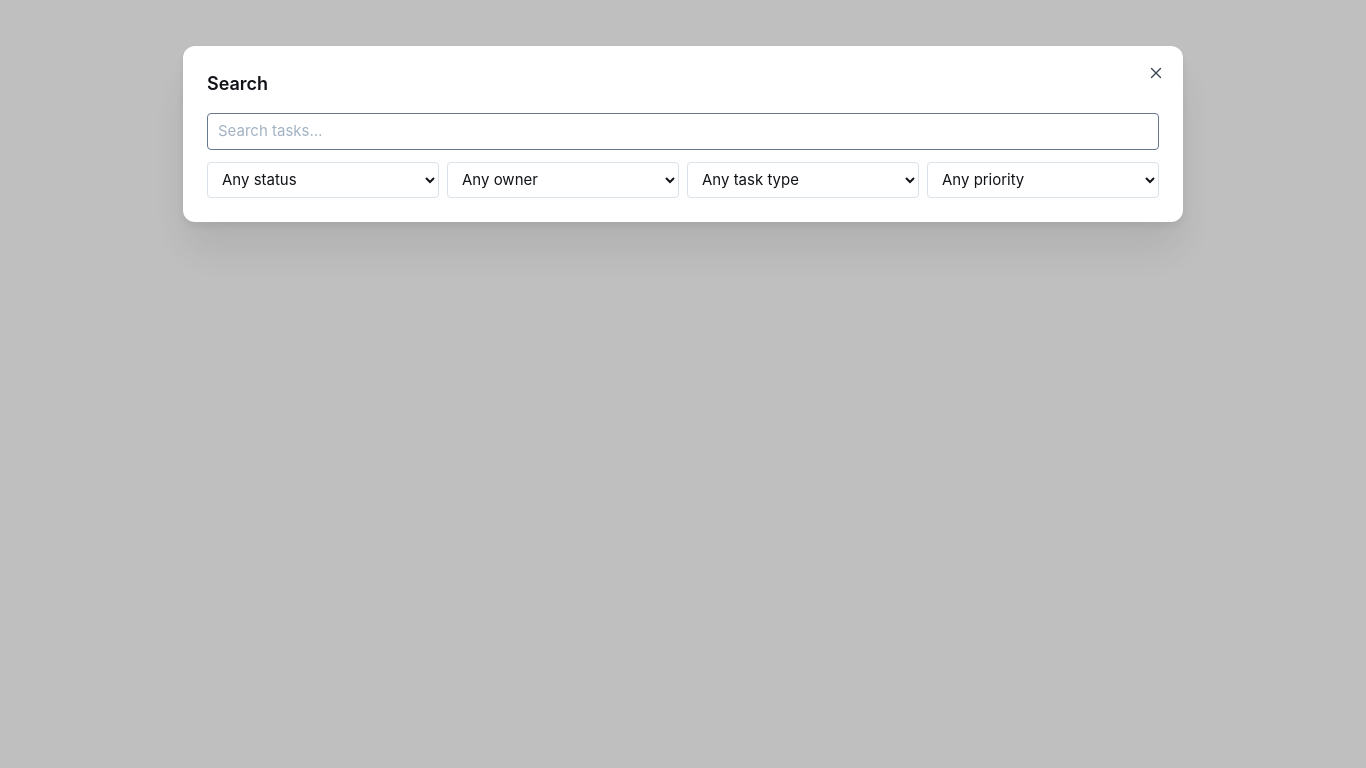
it: search dialog › sends the filters
This screenshot has width=1366, height=768.
Select "Not finished" in the dropdown named "Status" at (323, 180), box top-left (207, 162), bottom-right (439, 198)
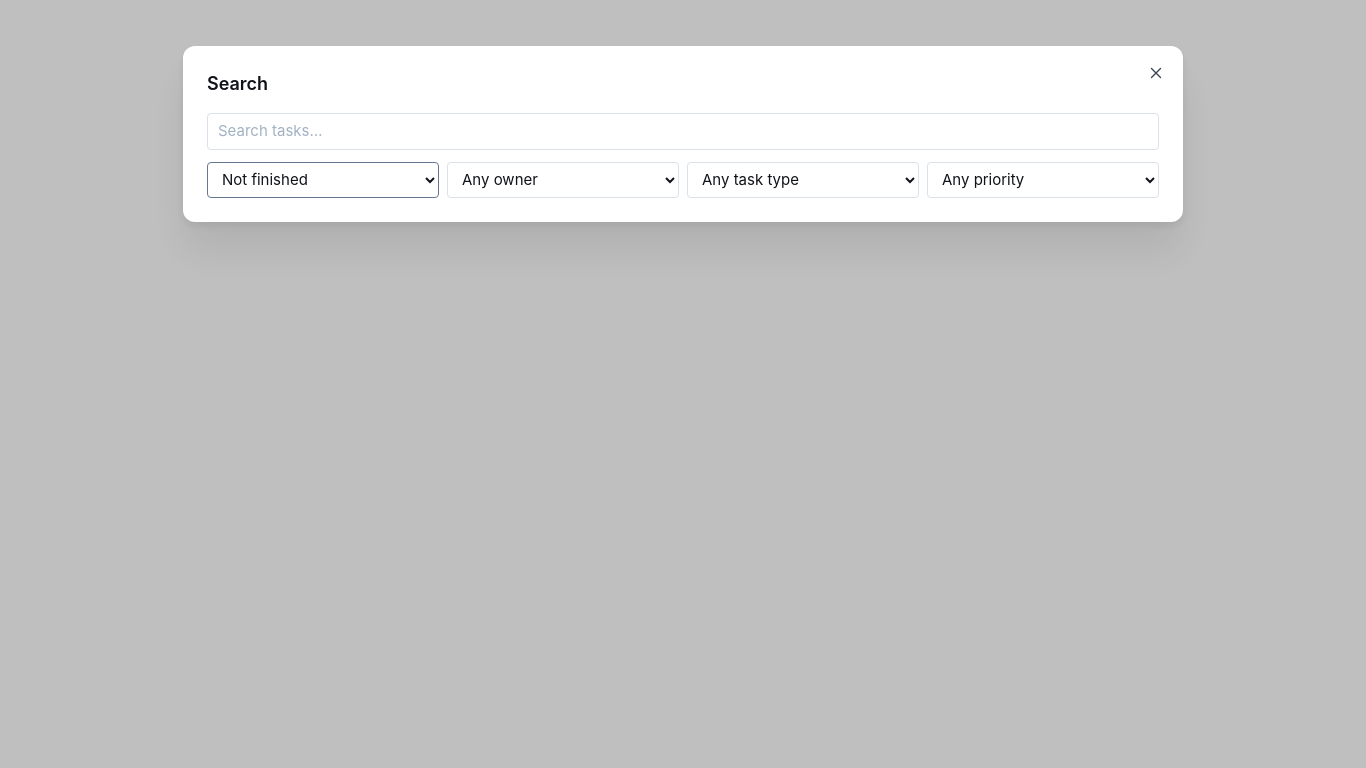
Select "Bob" in the dropdown named "Owner" at (563, 180), box top-left (447, 162), bottom-right (679, 198)
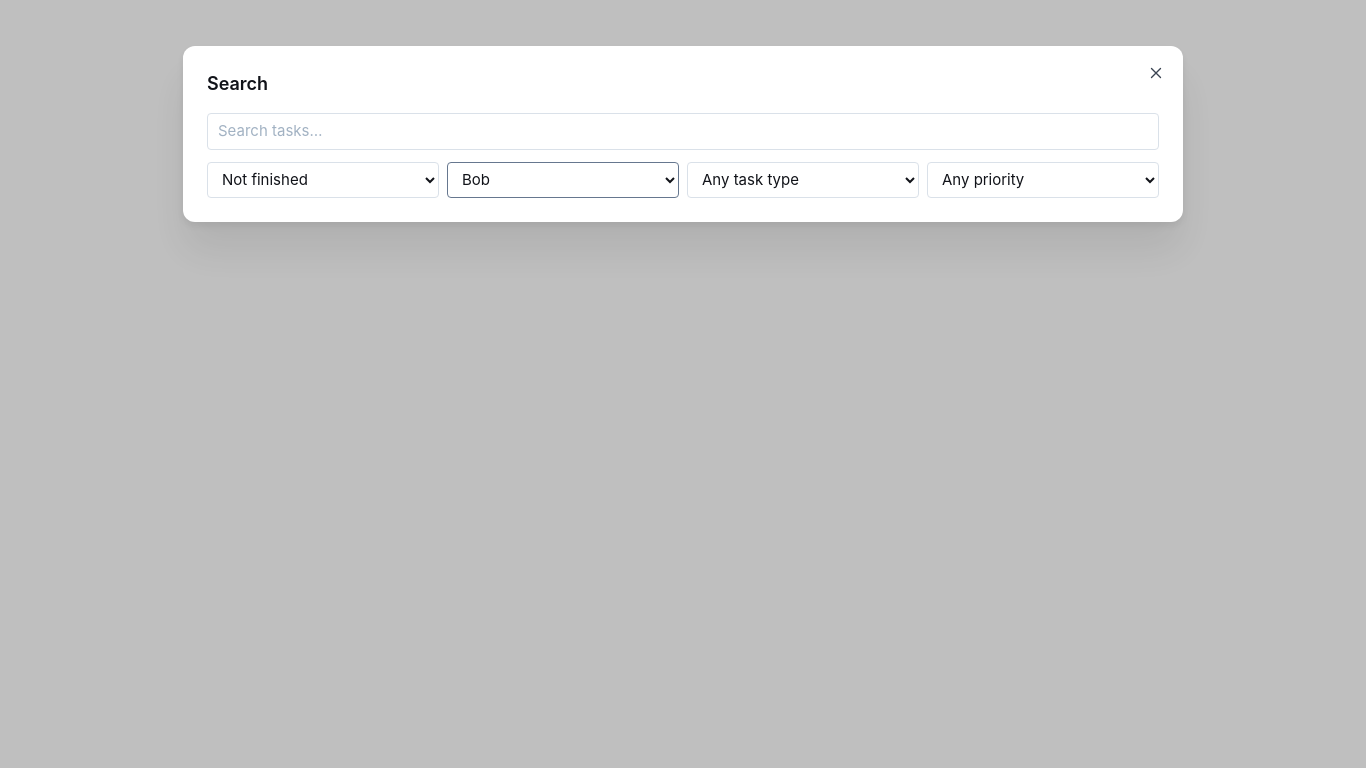
Type "plan" into the search field.
click(683, 131); type("plan")  # box top-left (207, 113), bottom-right (1159, 150)
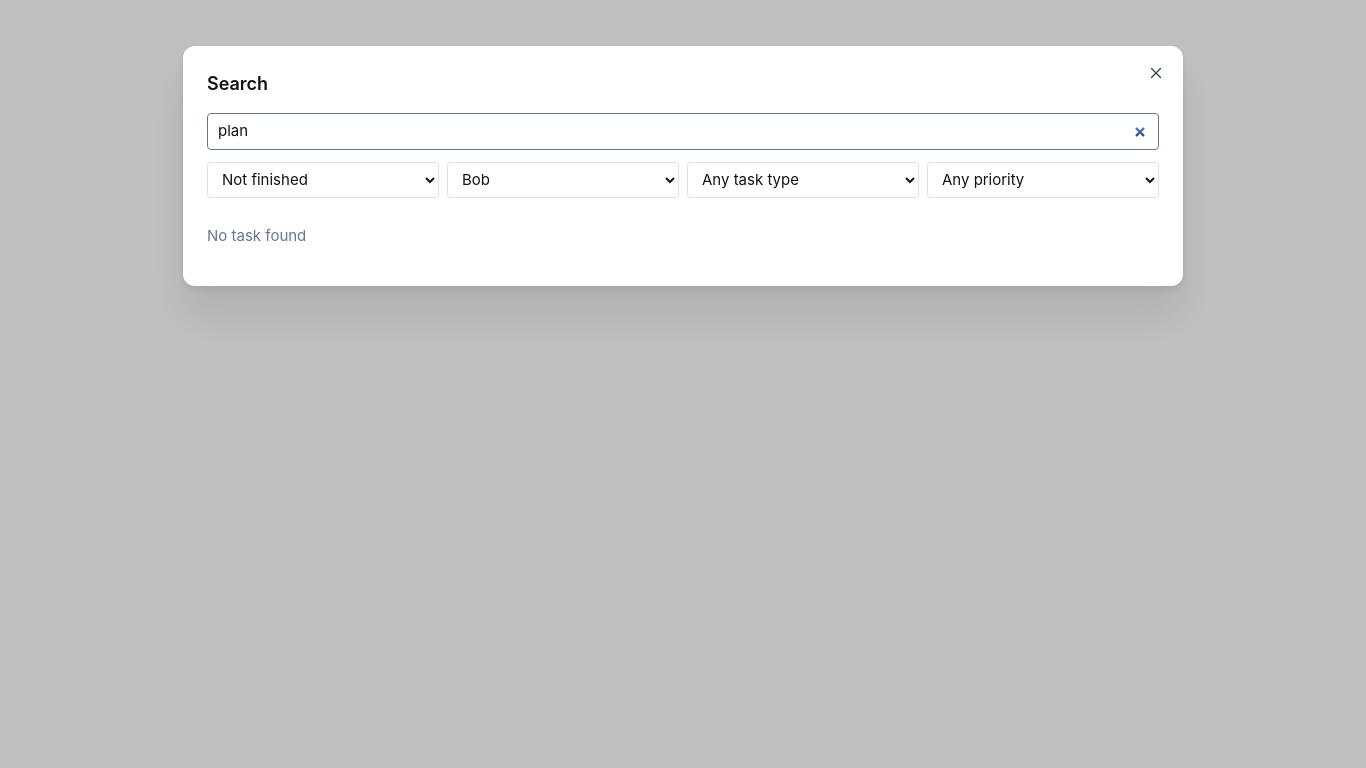
Check: the text "No task found" is shown, box top-left (207, 226), bottom-right (306, 245)
